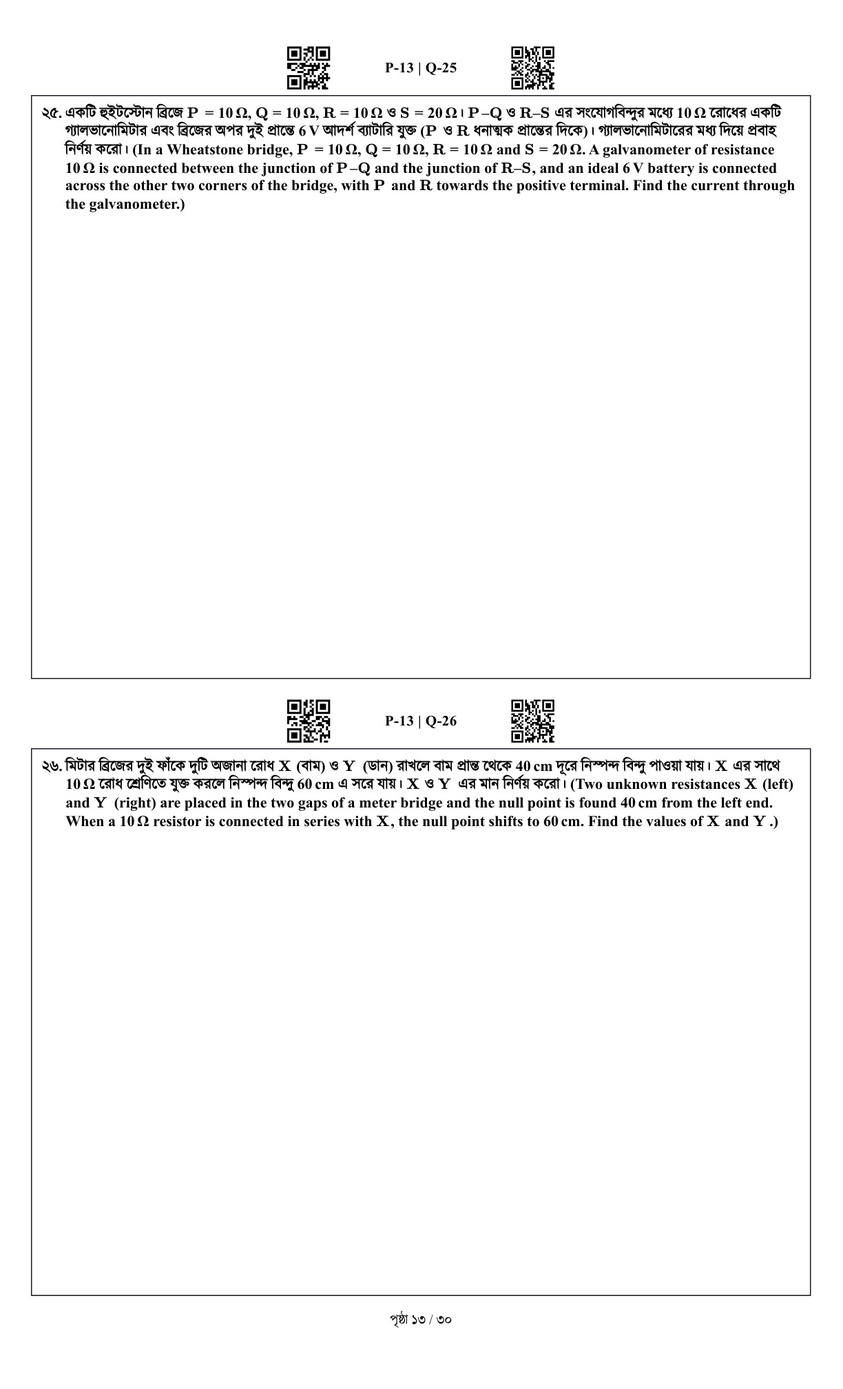question: (36, 100, 801, 219), (36, 753, 799, 836)
